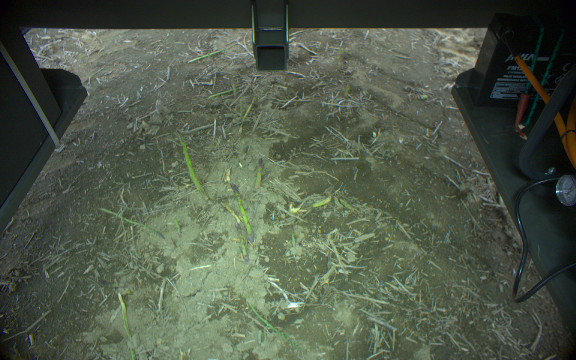aspa: (176, 130, 208, 199), (99, 205, 163, 239), (228, 183, 255, 242), (116, 290, 136, 359), (188, 48, 227, 64), (234, 222, 249, 262), (240, 95, 257, 125), (209, 85, 242, 98), (254, 157, 264, 190), (230, 83, 237, 98)
